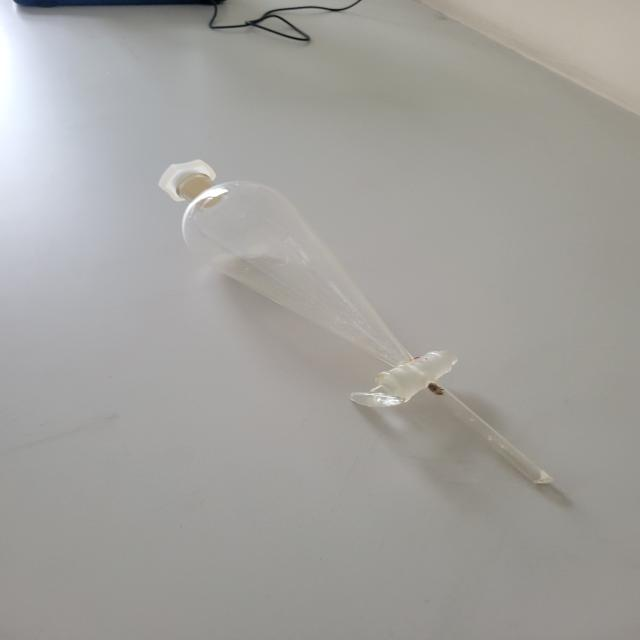Separating_Funnel: (132, 126, 594, 518)
